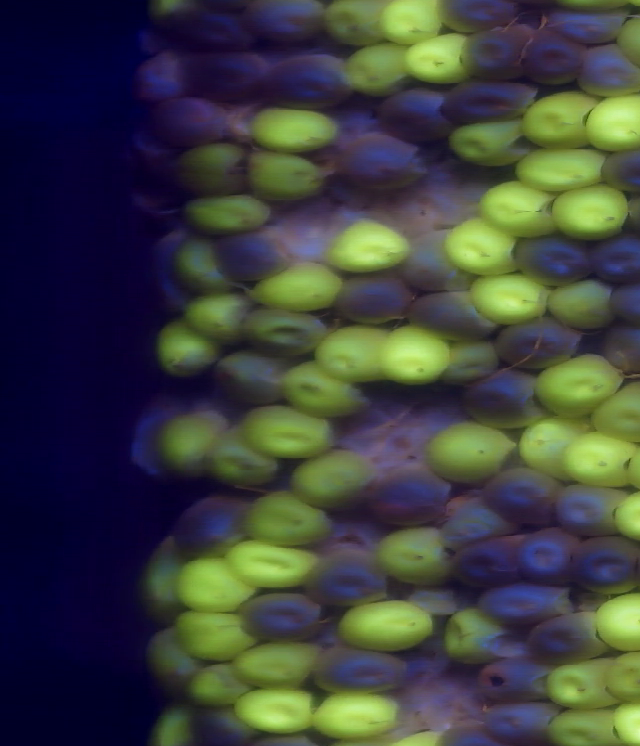fluorescent: (425, 423, 520, 489), (532, 351, 624, 415), (333, 597, 435, 653), (136, 535, 196, 626), (231, 639, 332, 693), (222, 538, 321, 593), (280, 362, 375, 419), (238, 403, 336, 457), (309, 686, 400, 743), (519, 413, 589, 487), (519, 88, 601, 151), (243, 146, 329, 206), (169, 608, 266, 661), (243, 494, 343, 545), (442, 218, 522, 281), (209, 422, 285, 488), (549, 183, 633, 241), (477, 181, 558, 241), (289, 453, 377, 508), (326, 219, 412, 275), (153, 410, 227, 475), (168, 140, 251, 197), (469, 273, 553, 329), (180, 289, 259, 348), (247, 104, 344, 152), (249, 261, 342, 311), (376, 327, 452, 387), (312, 327, 396, 381), (153, 318, 226, 378), (375, 527, 450, 585), (342, 41, 412, 103), (172, 234, 240, 297), (175, 559, 259, 610), (230, 687, 321, 734), (562, 432, 634, 491), (179, 191, 274, 235), (512, 148, 612, 189), (400, 33, 469, 87), (142, 629, 203, 690), (449, 118, 523, 168), (441, 608, 506, 664), (547, 277, 614, 330), (542, 665, 622, 709), (583, 92, 640, 153), (589, 382, 640, 447), (546, 705, 625, 746), (377, 1, 448, 44), (593, 593, 640, 654), (323, 1, 380, 50), (143, 705, 201, 746), (603, 646, 640, 701), (607, 696, 640, 746)
nonfluorescent: (337, 130, 430, 192), (363, 465, 456, 525), (437, 74, 539, 126), (260, 54, 360, 107), (166, 496, 258, 553), (147, 6, 258, 52), (214, 350, 297, 411), (312, 640, 409, 692), (186, 44, 266, 105), (462, 368, 549, 424), (332, 269, 413, 329), (476, 585, 588, 628), (400, 232, 474, 296), (303, 546, 389, 601), (511, 234, 599, 287), (482, 470, 569, 523), (572, 528, 640, 595), (410, 289, 501, 339), (448, 536, 537, 587), (240, 589, 325, 642), (528, 608, 611, 662), (212, 227, 290, 284), (375, 88, 455, 142), (480, 650, 554, 708), (497, 318, 581, 369), (244, 1, 330, 47), (460, 29, 534, 82), (154, 94, 231, 144), (444, 498, 515, 552), (516, 527, 581, 584), (483, 699, 566, 743), (520, 29, 586, 84), (555, 482, 627, 530), (544, 7, 632, 46), (579, 45, 640, 97), (586, 229, 640, 283), (431, 1, 523, 32), (600, 321, 640, 375), (598, 148, 640, 198), (605, 276, 640, 329)
